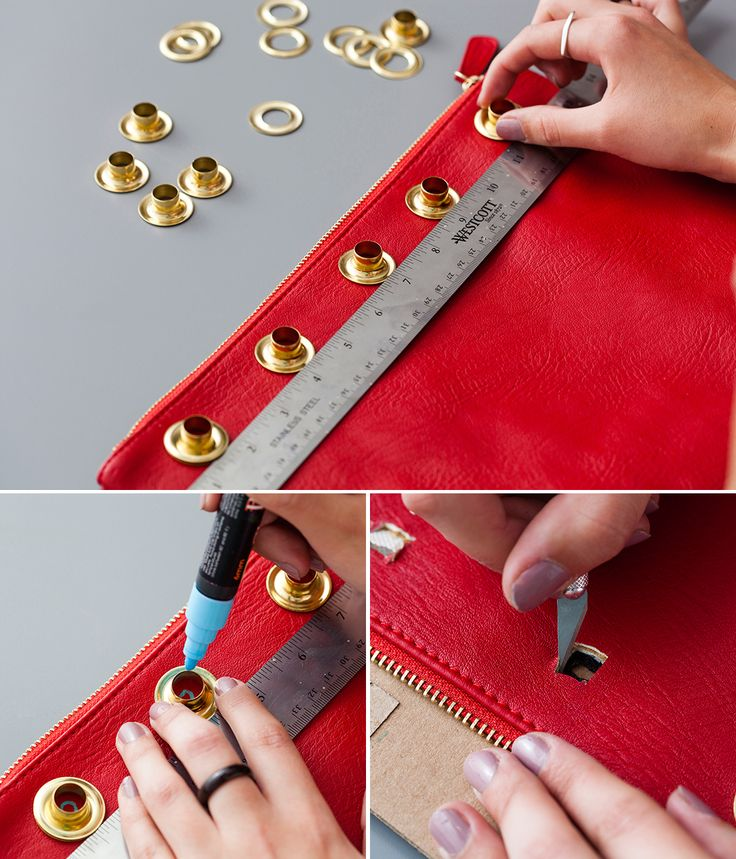cuero: (3, 35, 736, 858)
